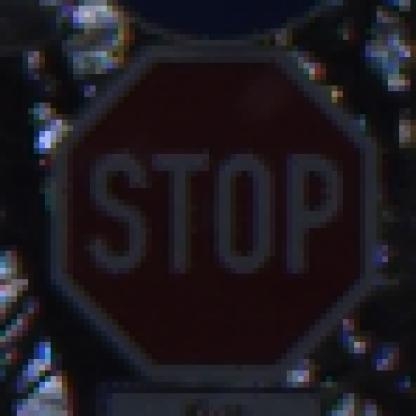Stop: (51, 49, 378, 385)
